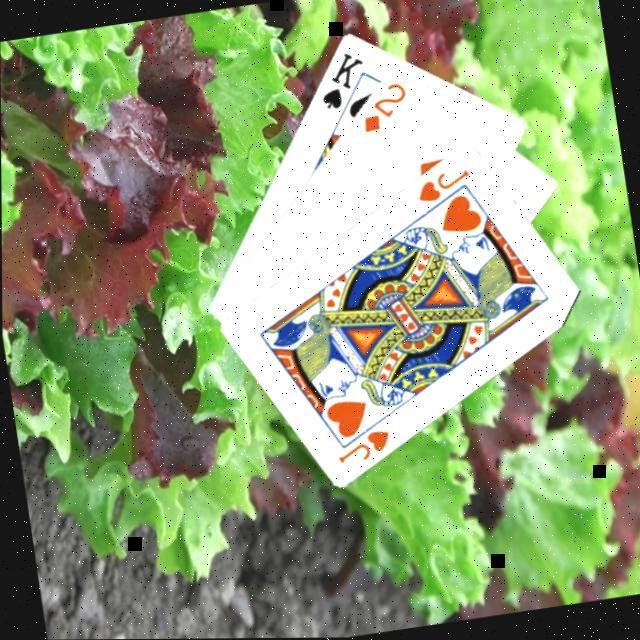2D: (356, 77, 414, 136)
JH: (332, 424, 396, 466), (412, 165, 477, 205)
KS: (312, 45, 372, 114)
